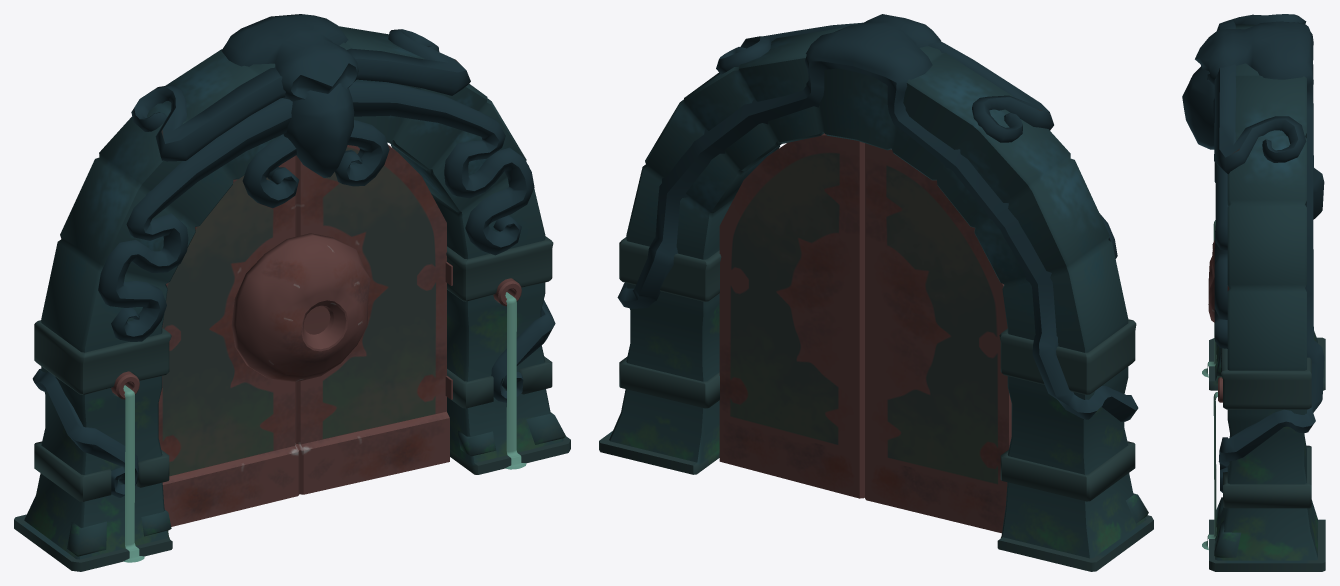
File: dungeon_door_-_water_environment.glb
3 views of the same model, side by side, from view 1: azimuth 30°, elevation 25°; view 2: azimuth 150°, elevation 25°; view 3: azimuth 270°, elevation 25° (orthographic). The views are drawn at different scales.
Parts seen in each view (by area): view 1: Object_3, Object_4; view 2: Object_3, Object_4; view 3: Object_3, Object_4.
Boxes of the visible parts, bbox=[...] form: Object_3: bbox=[14, 14, 570, 562]; Object_4: bbox=[14, 26, 570, 571]; Object_3: bbox=[599, 14, 1153, 562]; Object_4: bbox=[599, 27, 1153, 571]; Object_3: bbox=[1182, 14, 1325, 563]; Object_4: bbox=[1209, 24, 1325, 571].
Size of the model in its own units: 267 by 237 by 71.74.
Materials: 1 (1 with a texture image).
